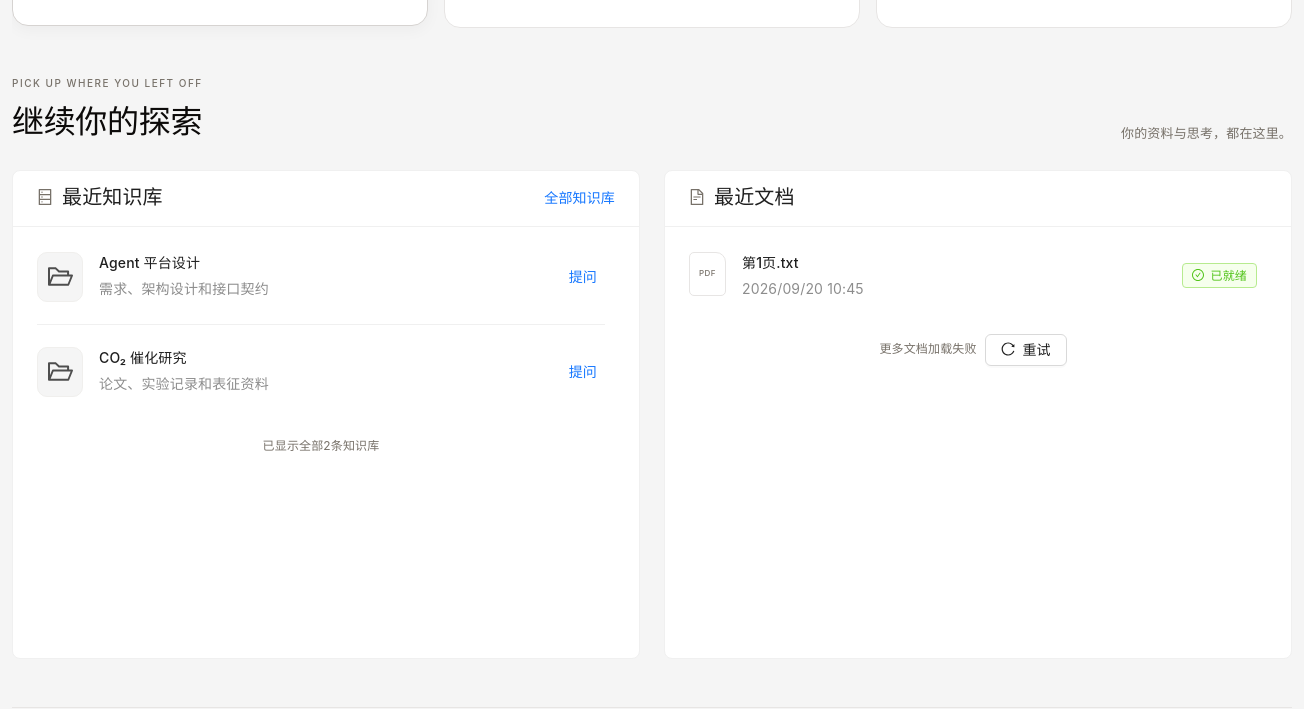
Test case: FE12 dashboard (MSW) › keeps loaded documents on a next-page failure, then retries that page once
(page scrolled)
Check: the text "更多文档加载失败" is shown, box [879,340,977,359]
Check: the link "第1页.txt" is shown, box [742,254,799,271]
Click the button "重试" at (1026,350), box [985,334,1067,366]
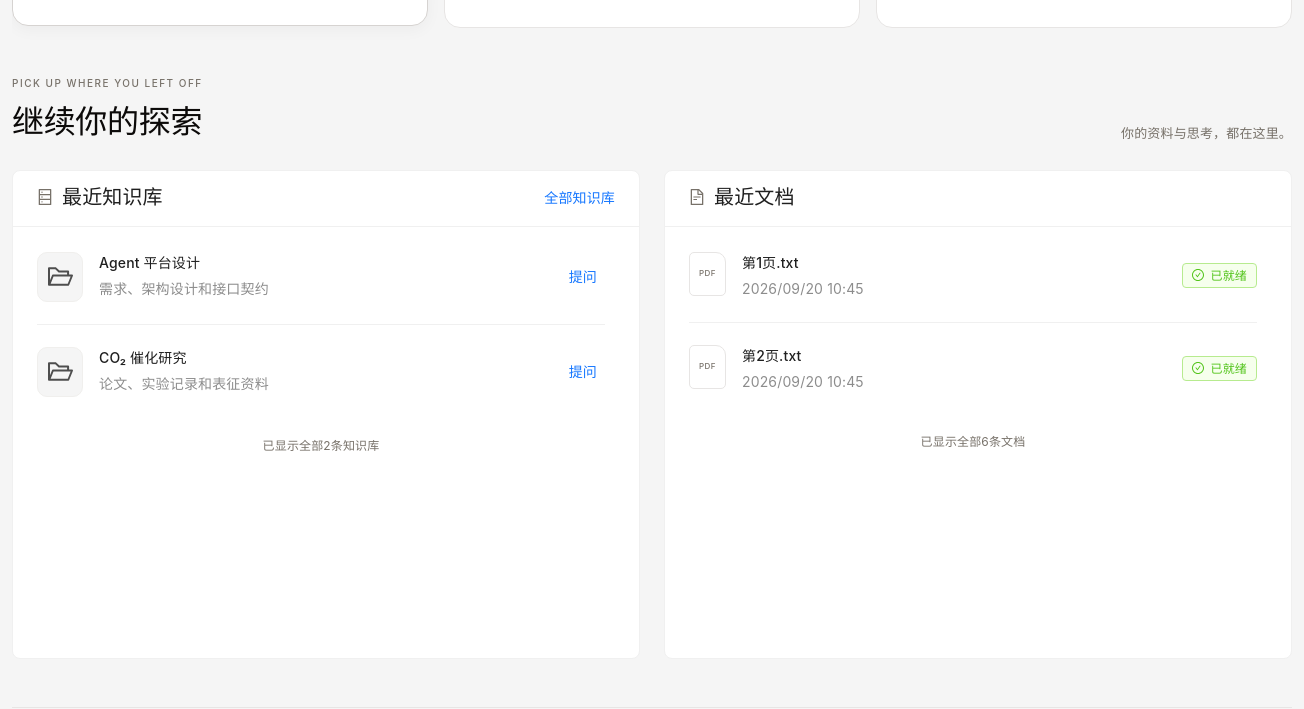
Check: the link "第2页.txt" is shown, box [742,347,802,364]
Check: the text "更多文档加载失败" is gone
